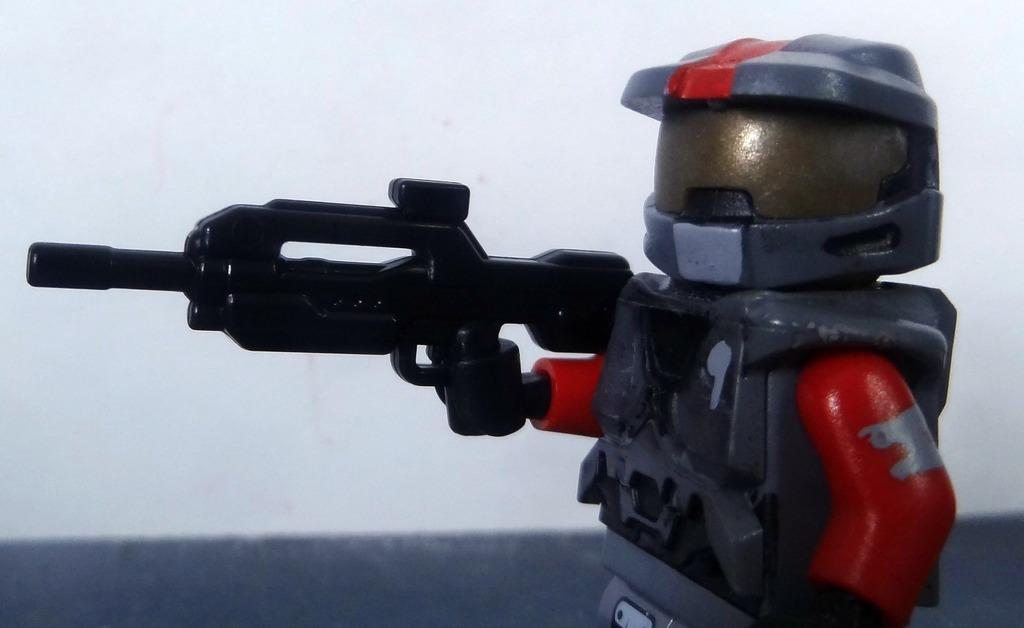Rifle: (25, 174, 633, 436)
